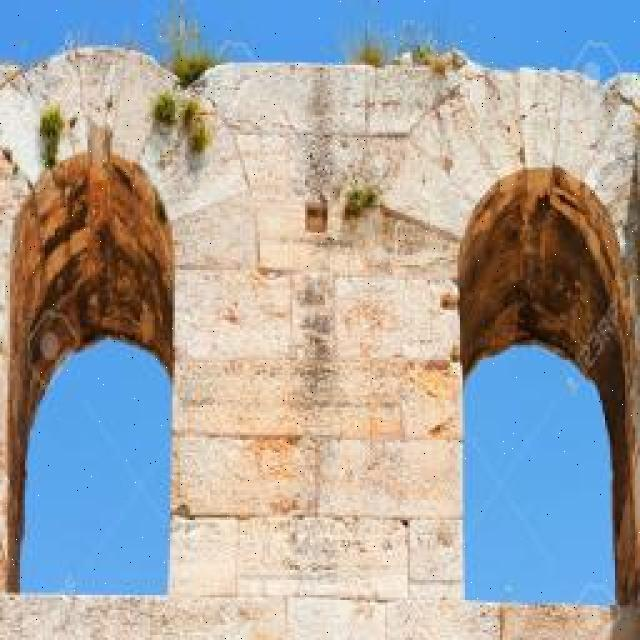crack: (178, 271, 310, 372), (175, 435, 319, 518), (328, 271, 451, 365), (182, 360, 328, 437), (306, 356, 442, 436), (335, 436, 463, 518), (205, 65, 349, 137), (387, 131, 479, 236), (169, 193, 270, 273), (344, 71, 427, 139), (254, 207, 323, 277), (404, 519, 460, 585), (230, 128, 295, 176), (234, 566, 300, 600)
dampness: (166, 524, 464, 636)
vegetation: (408, 43, 462, 76), (170, 49, 216, 86), (38, 101, 63, 168), (183, 99, 211, 155), (342, 181, 381, 218), (152, 90, 179, 126), (357, 44, 384, 68)
